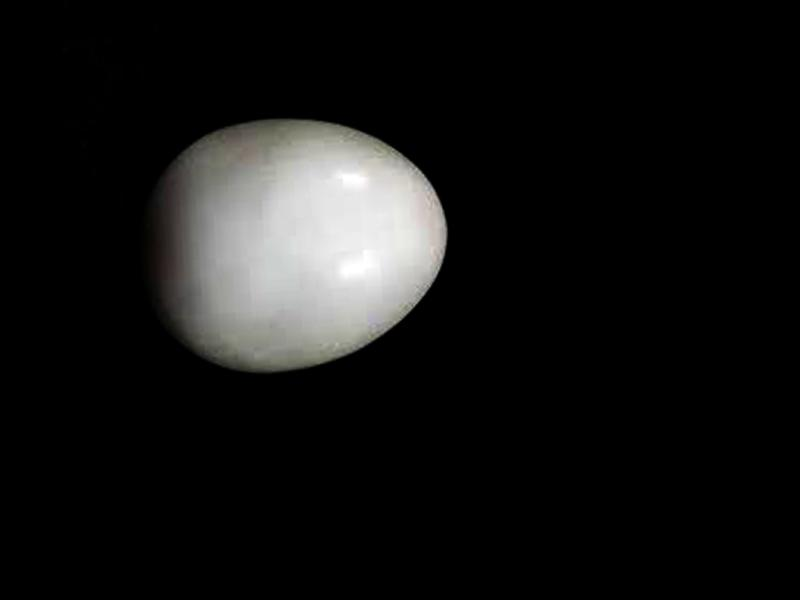Eggs: (127, 110, 453, 376)
